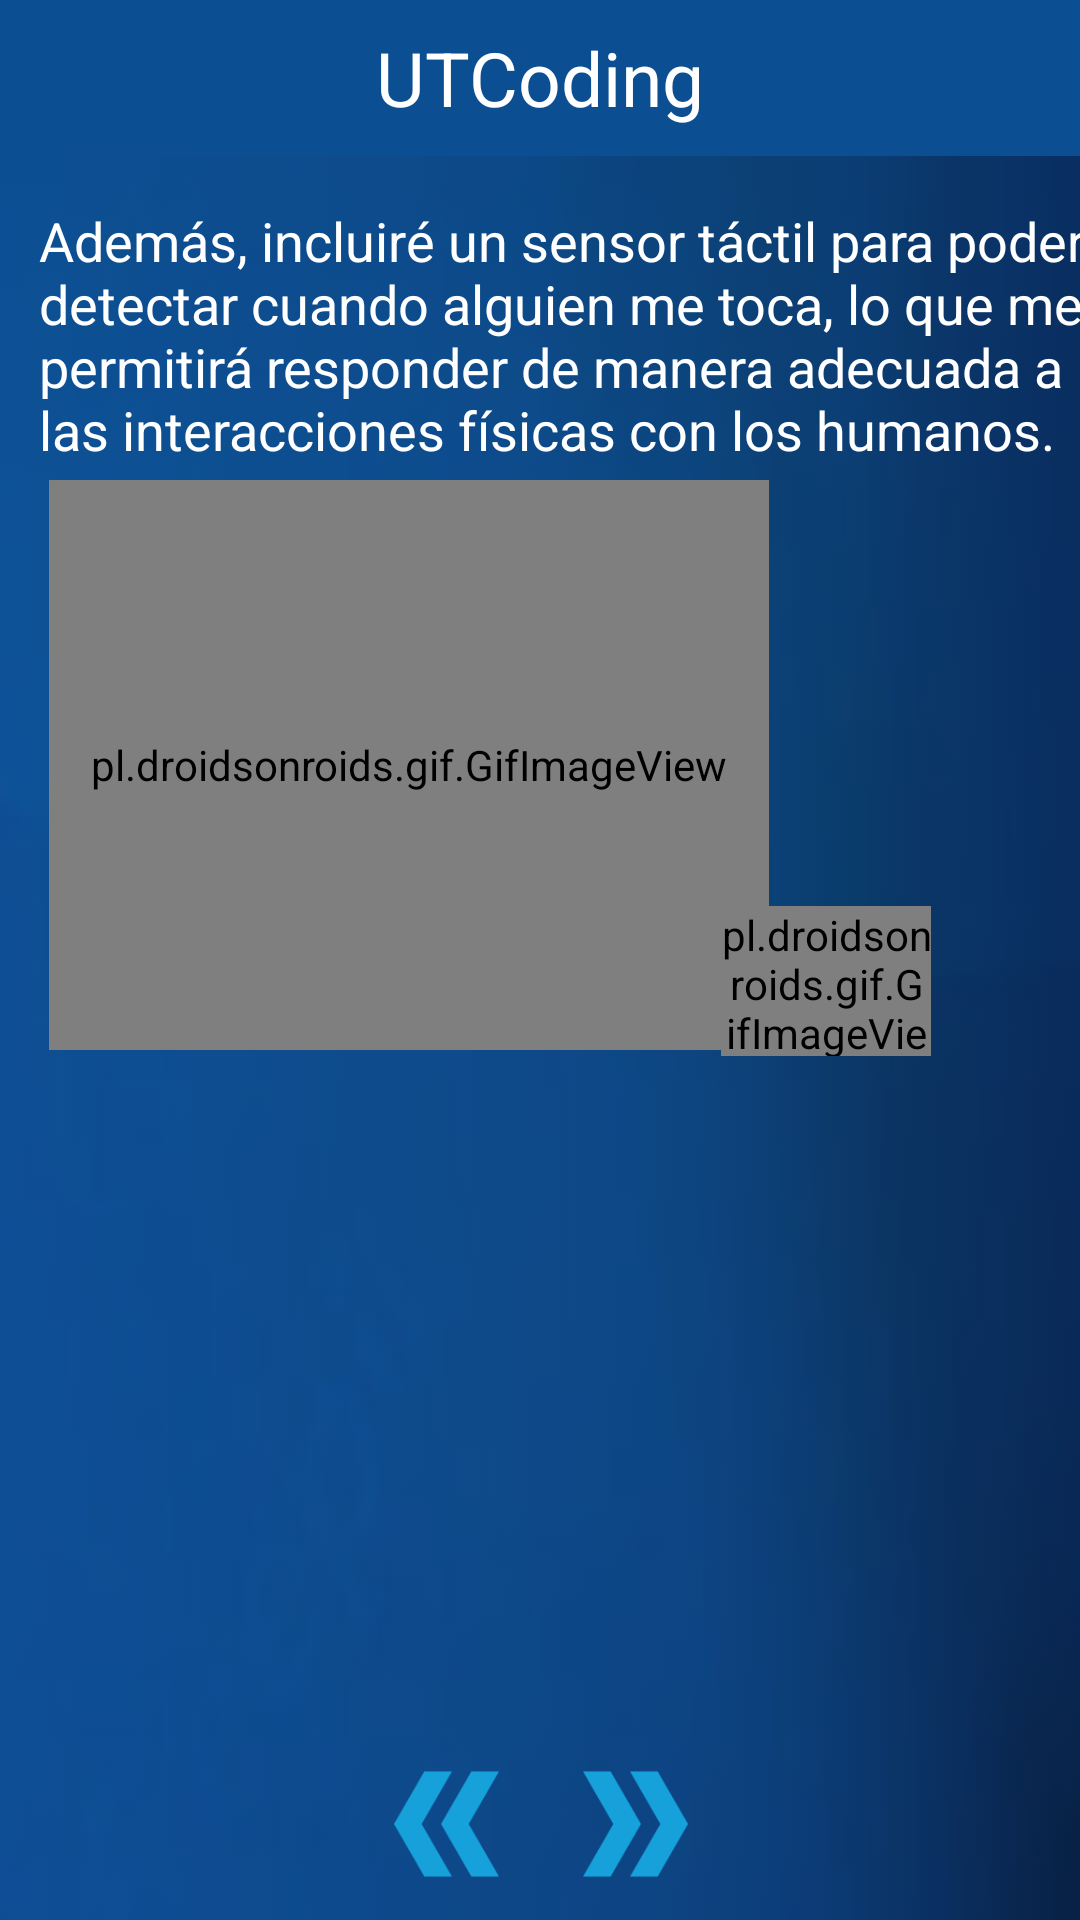

Screen size 1080 x 1920. Icon name, then its center in pixels as (x,y):
regresar: (446,1824)
siguiente: (635,1824)
